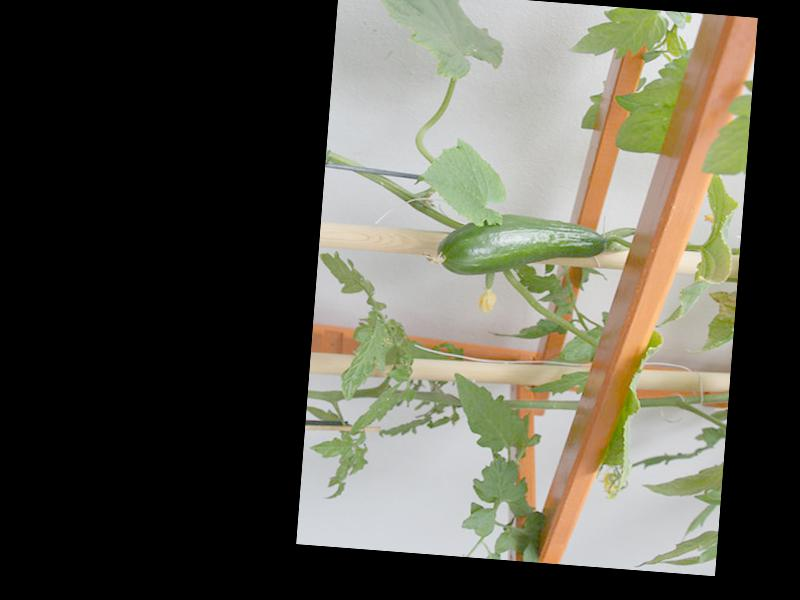Cucumber: (424, 209, 606, 285)
